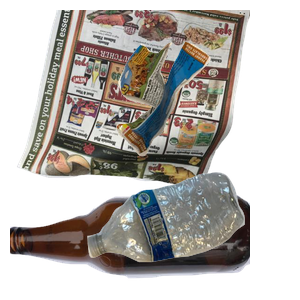glass: (10, 188, 250, 300)
paper: (14, 10, 254, 190)
plastic: (85, 170, 300, 300)
trash: (114, 39, 300, 188)
